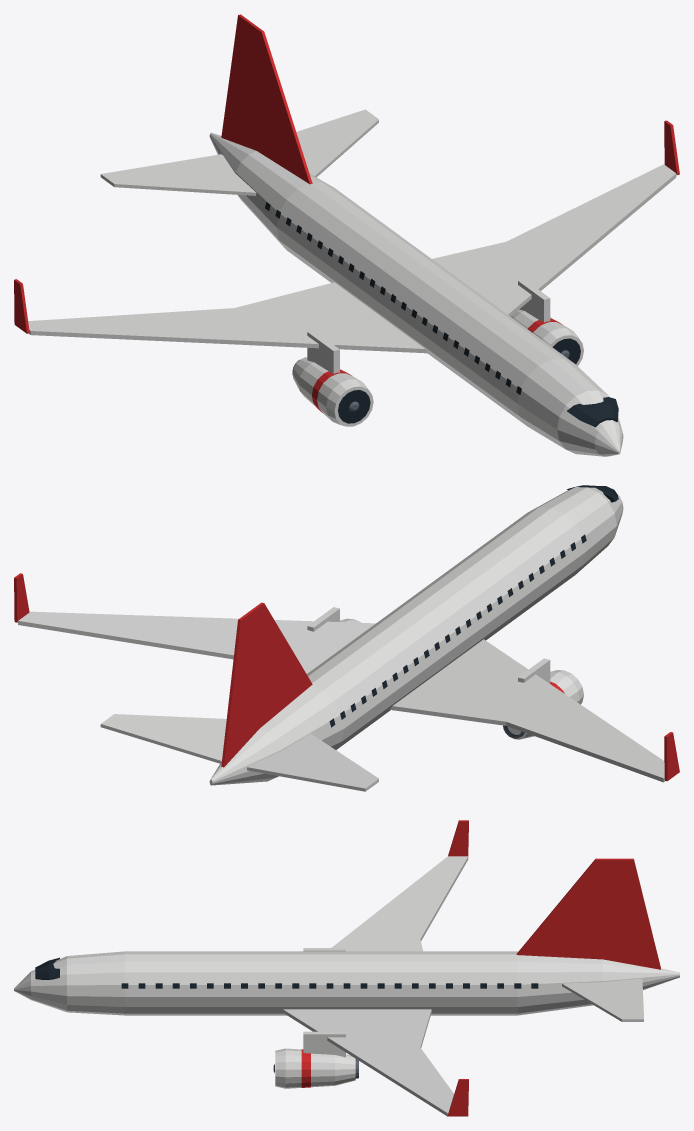
Rendered from airliner.glb.
3 views of the same model, one above another, from view 1: azimuth 30°, elevation 25°; view 2: azimuth 150°, elevation 25°; view 3: azimuth 270°, elevation 25° (orthographic). The views are drawn at different scales.
Parts seen in each view (by area): view 1: airliner body; view 2: airliner body; view 3: airliner body.
Part boxes in pixels (left/top/right/bottom): airliner body: left=14, top=14, right=679, bottom=456; airliner body: left=14, top=485, right=679, bottom=791; airliner body: left=14, top=820, right=679, bottom=1116.
Size of the model in its own units: 36 by 12 by 39.
